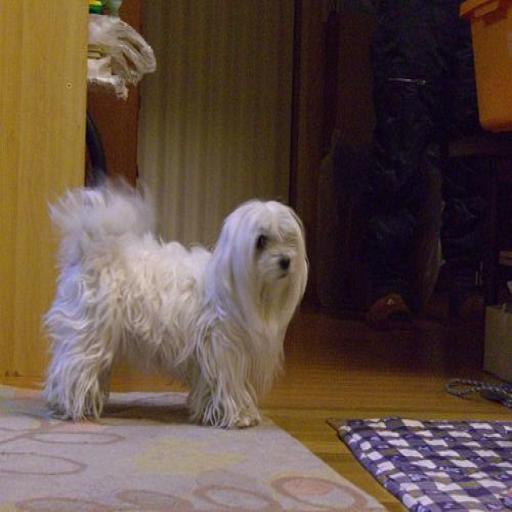dog_face: (222, 202, 308, 306)
